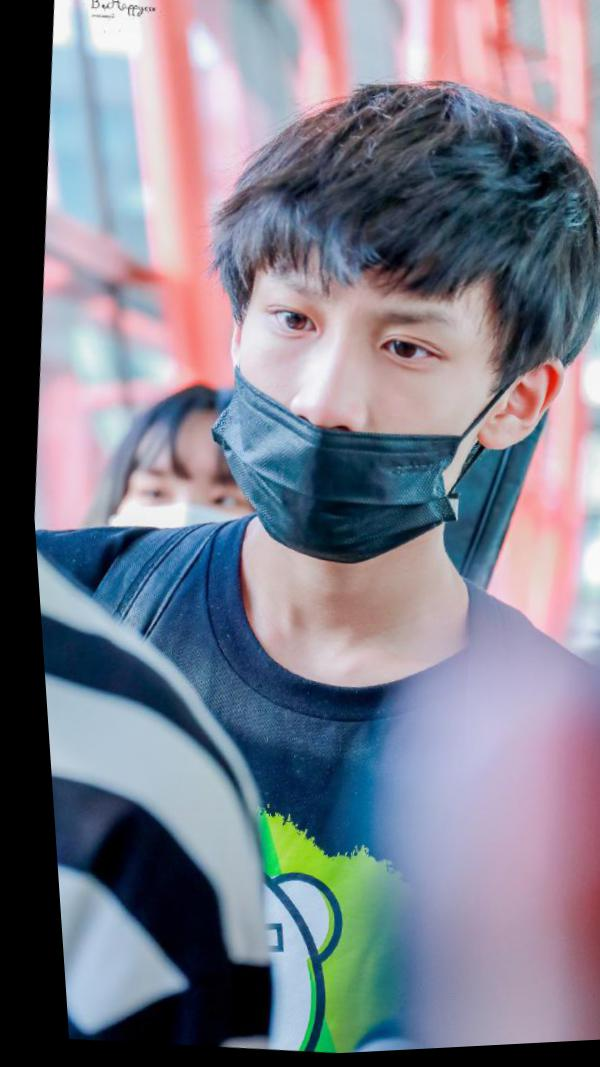OK: (98, 426, 256, 595)
WRONG: (203, 238, 506, 584)
